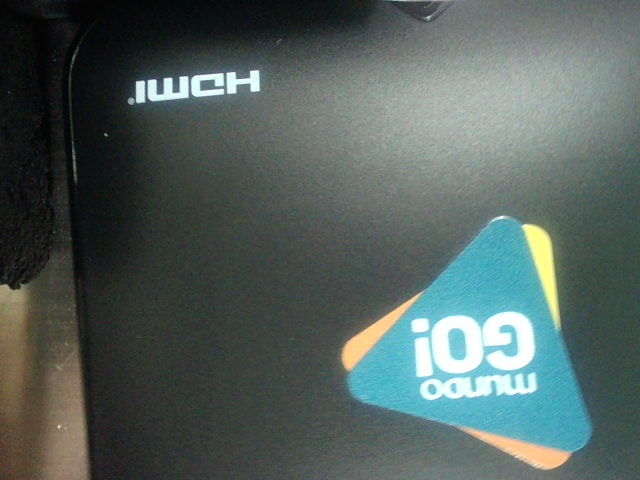AP_IPGMundoGO: (313, 211, 601, 477)
